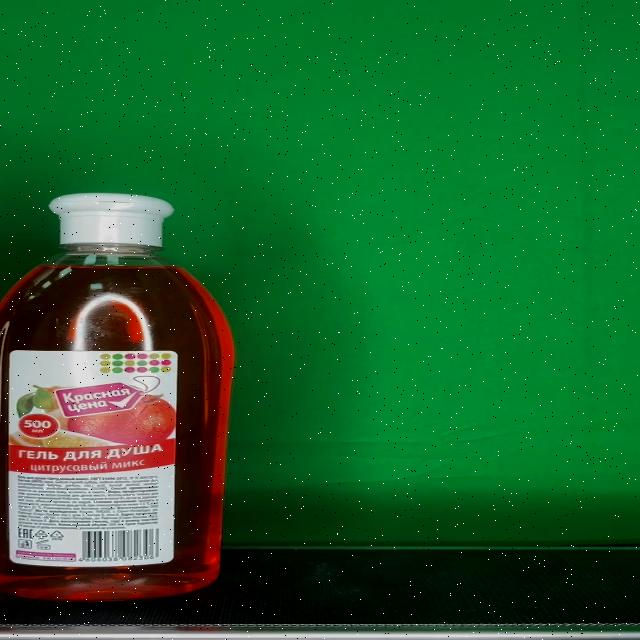Bottle: (0, 192, 237, 602)
Cap: (49, 193, 174, 245)
